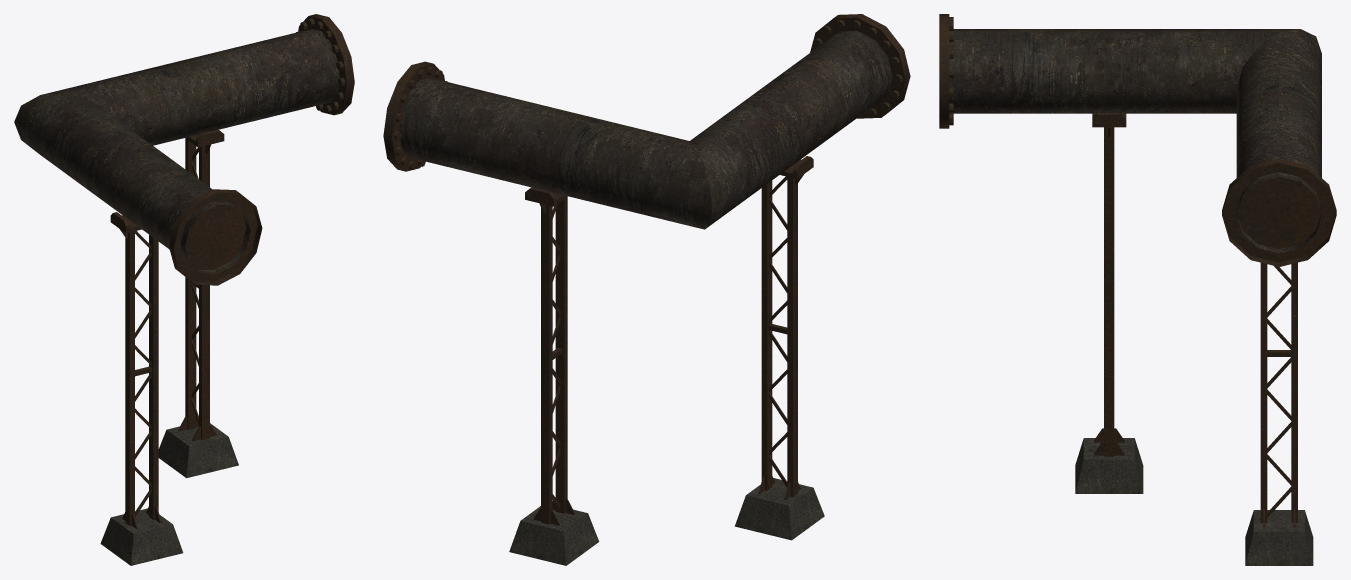
File: pipe_cx_3.glb
3 renders of one model, left to right at view 1: azimuth 30°, elevation 25°; view 2: azimuth 150°, elevation 25°; view 3: azimuth 270°, elevation 25°, orthographic. The views are drawn at different scales.
Parts seen in each view (by area): view 1: pipe_cx_3; view 2: pipe_cx_3; view 3: pipe_cx_3.
Part boxes in pixels (x1,y1,x2,y2): pipe_cx_3: (14, 14, 354, 565); pipe_cx_3: (383, 14, 910, 565); pipe_cx_3: (939, 14, 1336, 565).
Bounding box in the file's own units: 2.34 × 2.99 × 2.34.
3 materials, 3 textured.
